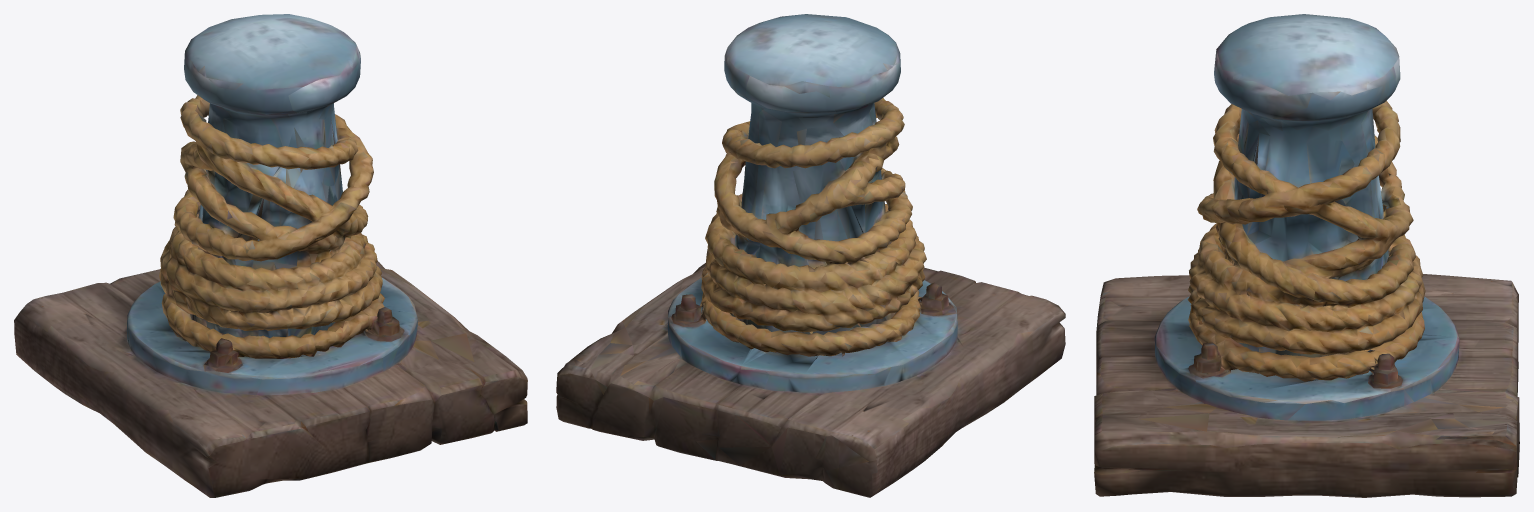
File: sc-rope-bollard.glb
The picture shows the model from 3 angles, left to right: view 1: azimuth 30°, elevation 25°; view 2: azimuth 150°, elevation 25°; view 3: azimuth 270°, elevation 25°; orthographic projection. The views are drawn at different scales.
Parts seen in each view (by area): view 1: geometry_0; view 2: geometry_0; view 3: geometry_0.
Part boxes in pixels (box(x1,y1,x2,y2)): geometry_0: box(14, 14, 527, 497); geometry_0: box(556, 14, 1065, 497); geometry_0: box(1094, 14, 1519, 497).
Size of the model in its own units: 0.9376 by 0.9889 by 1.
1 material, 1 textured.
